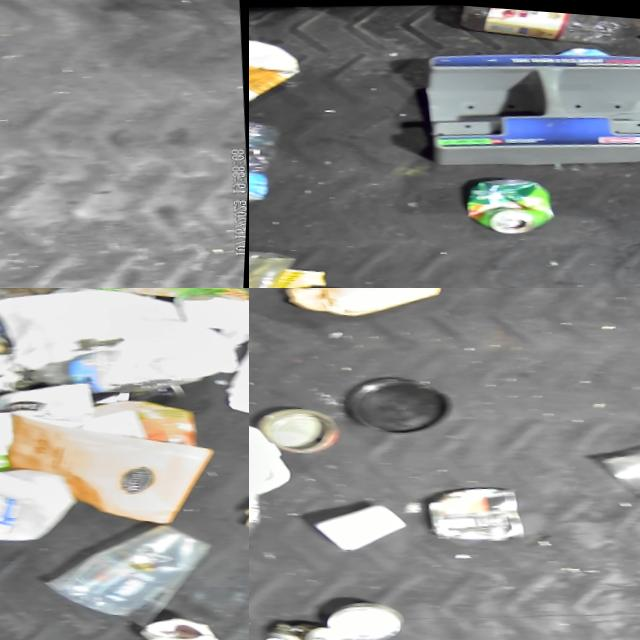can: (423, 474, 531, 543), (460, 164, 562, 234), (254, 398, 348, 458), (326, 591, 410, 640), (139, 606, 223, 640), (263, 611, 356, 640), (0, 327, 15, 363)
milk_jug: (0, 444, 81, 548)
non_white_jug: (270, 288, 453, 327)
plastic_bottle: (18, 334, 209, 403), (453, 0, 640, 53), (249, 108, 292, 225)
